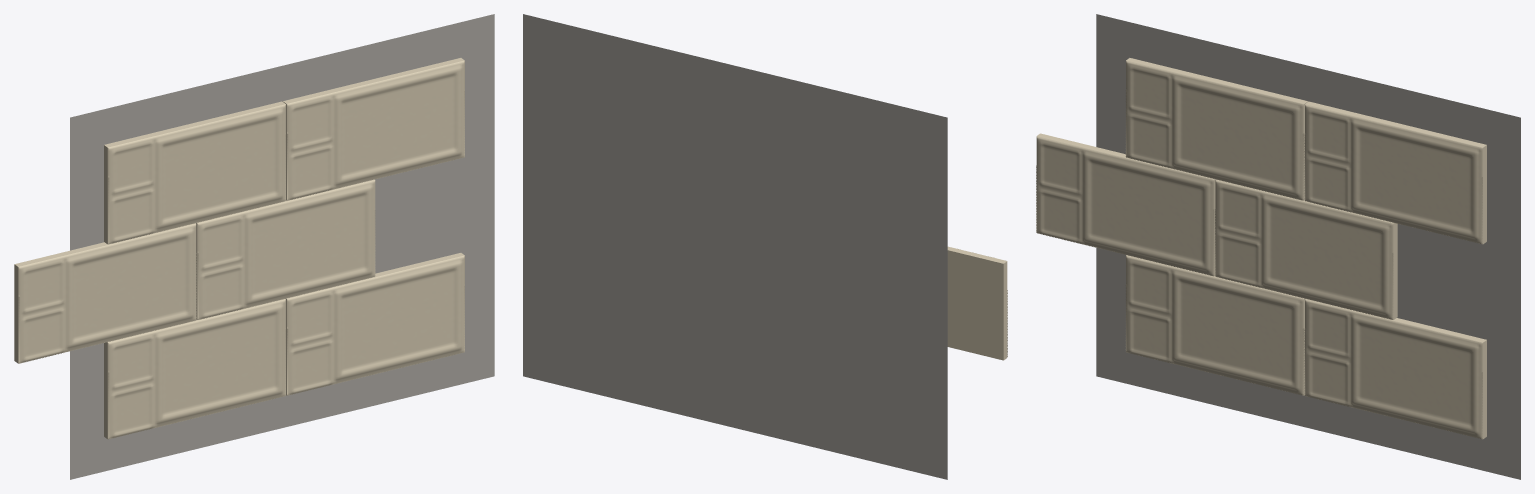
File: terilgan.glb
The picture shows the model from 3 angles, left to right: view 1: azimuth 30°, elevation 25°; view 2: azimuth 150°, elevation 25°; view 3: azimuth 330°, elevation 25°; orthographic projection.
Visible parts, largest first — view 1: Plane, t2_0, t1_0, t2_1, t0_0, t0_1, t1_1; view 2: Plane, t1_0; view 3: Plane, t2_1, t0_1, t2_0, t1_1, t1_0, t0_0.
Boxes of the visible parts, box(x1,y1,x2,y2) form: Plane: box(70, 14, 494, 479); t2_0: box(104, 101, 285, 244); t1_0: box(14, 223, 196, 363); t2_1: box(282, 58, 464, 200); t0_0: box(104, 299, 285, 439); t0_1: box(285, 253, 464, 395); t1_1: box(196, 179, 375, 319); Plane: box(523, 14, 947, 479); t1_0: box(947, 246, 1007, 360); Plane: box(1096, 14, 1520, 479); t2_1: box(1304, 101, 1486, 244); t0_1: box(1304, 299, 1486, 439); t2_0: box(1125, 58, 1307, 200); t1_1: box(1215, 179, 1397, 319); t1_0: box(1036, 133, 1215, 276); t0_0: box(1125, 255, 1305, 395).
Bounding box in the file's own units: 2.16 × 1.55 × 0.0419.
